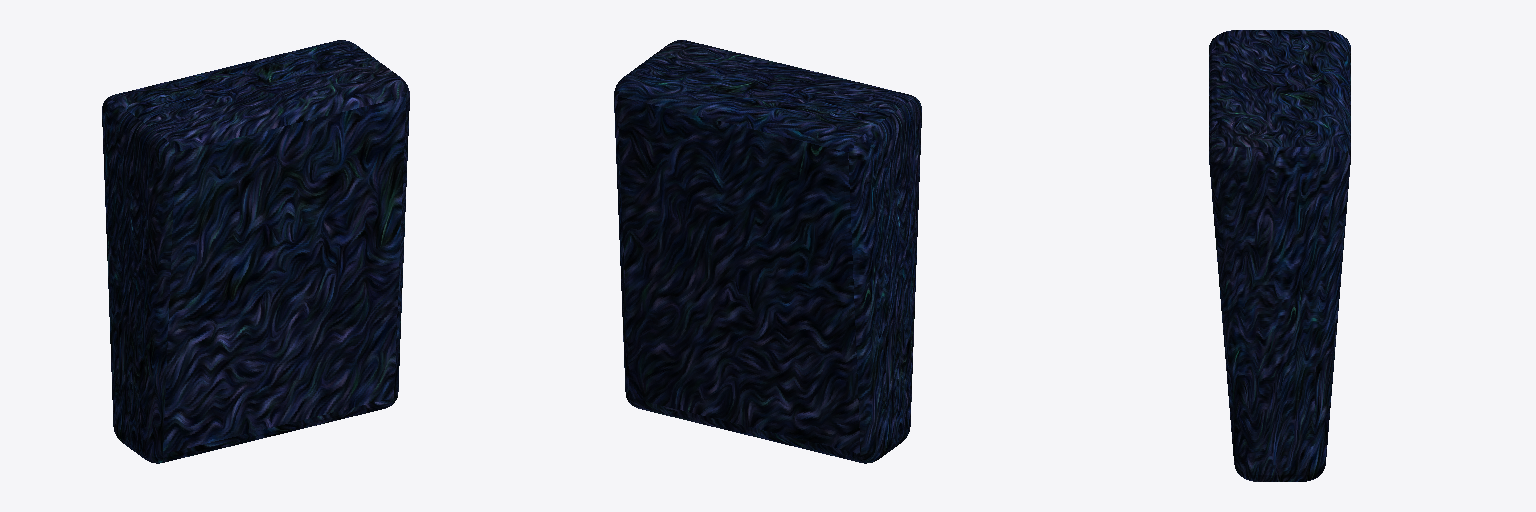
3 views of the same model, side by side, from view 1: azimuth 30°, elevation 25°; view 2: azimuth 150°, elevation 25°; view 3: azimuth 270°, elevation 25° (orthographic).
Parts seen in each view (by area): view 1: pCube3; view 2: pCube3; view 3: pCube3.
Part boxes in pixels (x1,y1,x2,y2): pCube3: (102, 40, 409, 463); pCube3: (614, 40, 921, 463); pCube3: (1209, 30, 1350, 481).
Bounding box in the file's own units: 899 × 1145 × 435.
Materials: 1 (1 with a texture image).